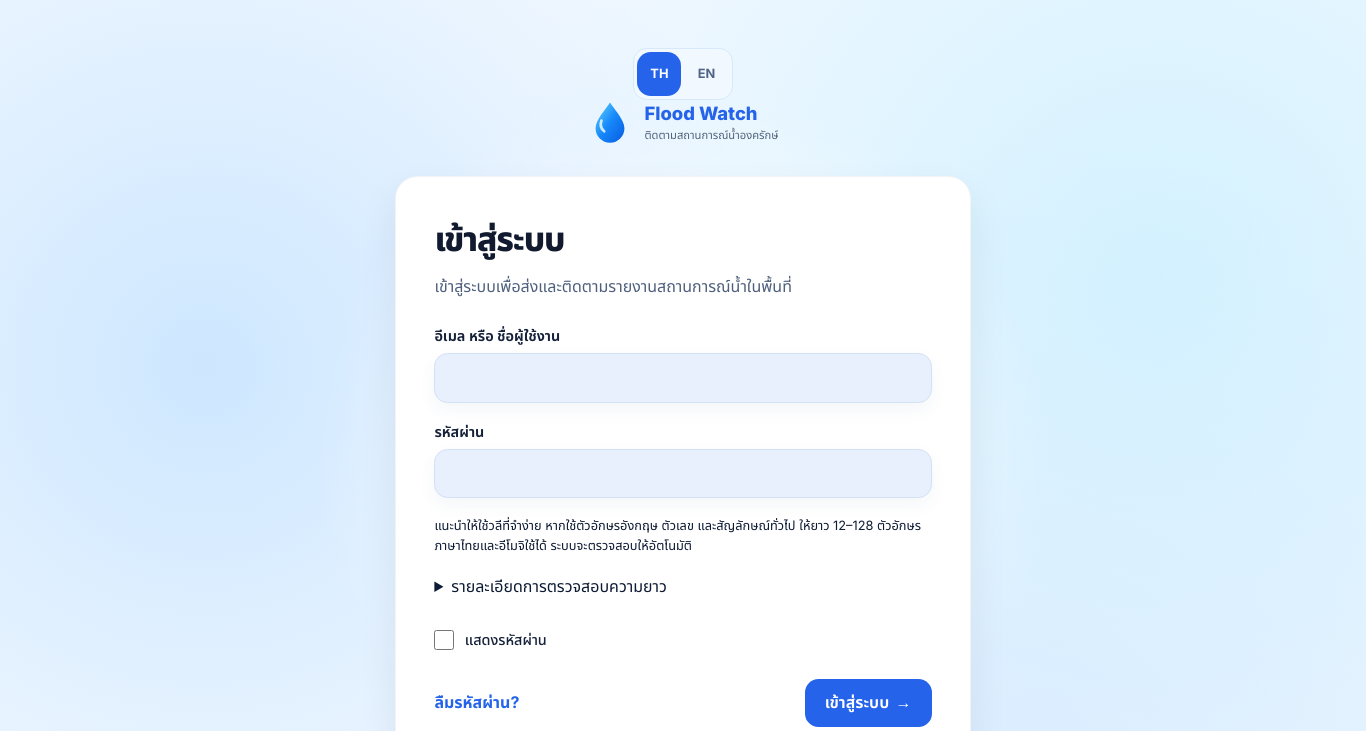
Test: auth localization catalogs › re-renders a stored validation error in the selected locale
Type "person@example.test" into the field labelled "อีเมล หรือ ชื่อผู้ใช้งาน". click: [683, 378]
box: [434,353,932,402]
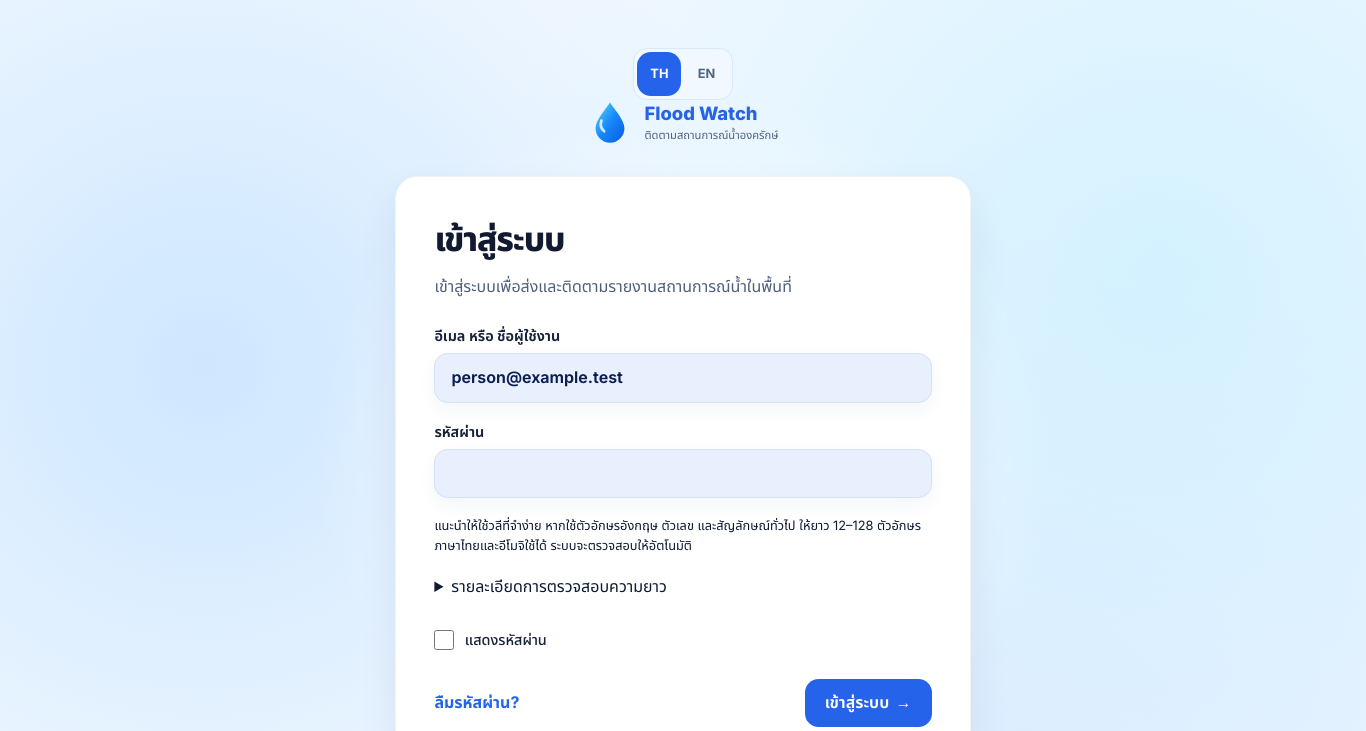
Type "short" into the password field labelled "รหัสผ่าน". click: [683, 474]
box: [434,449,932,498]
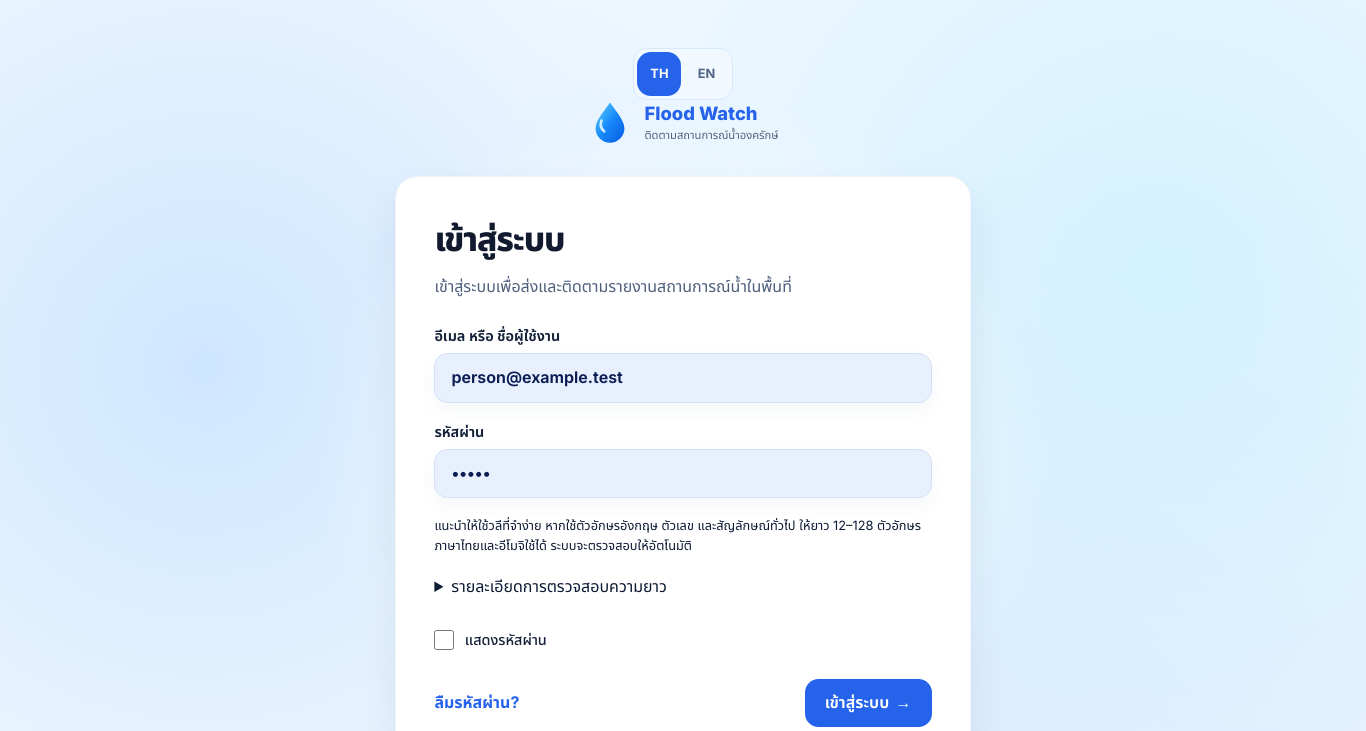
Click the button "เข้าสู่ระบบ →". click: [868, 703]
box: [805,679,932,727]
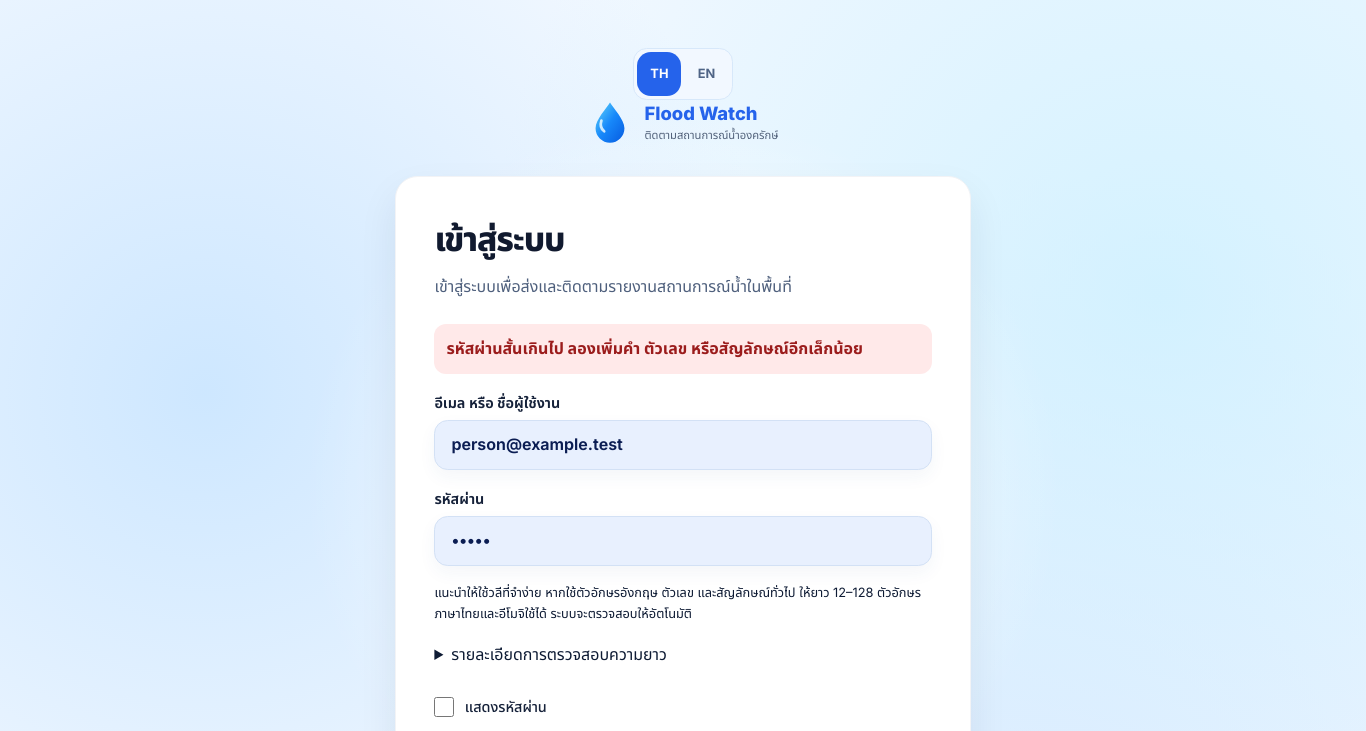
expect the message shows "รหัสผ่านสั้นเกินไป": met, box [446,338,863,358]
Click the button "EN". click: [707, 74]
box: [685,52,729,96]
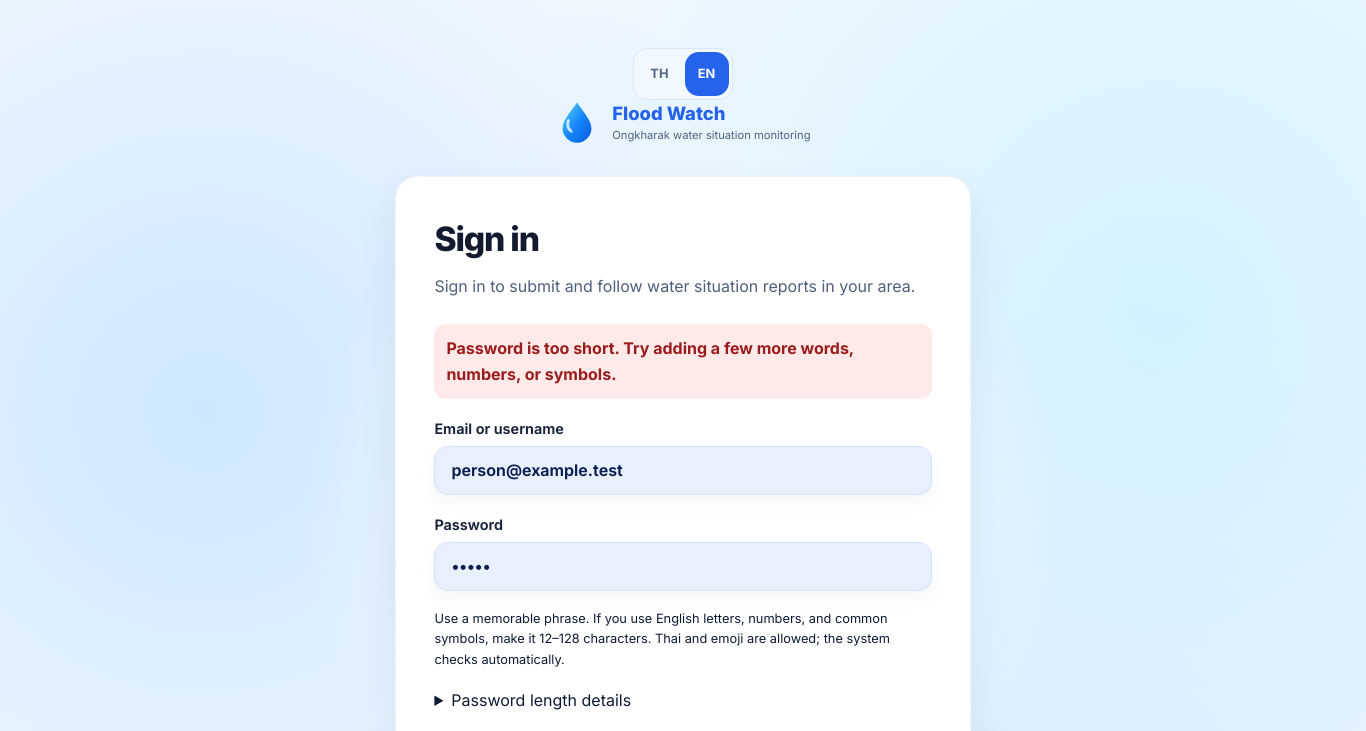
expect the message shows "Password is too short": met, box [446,338,854,384]
